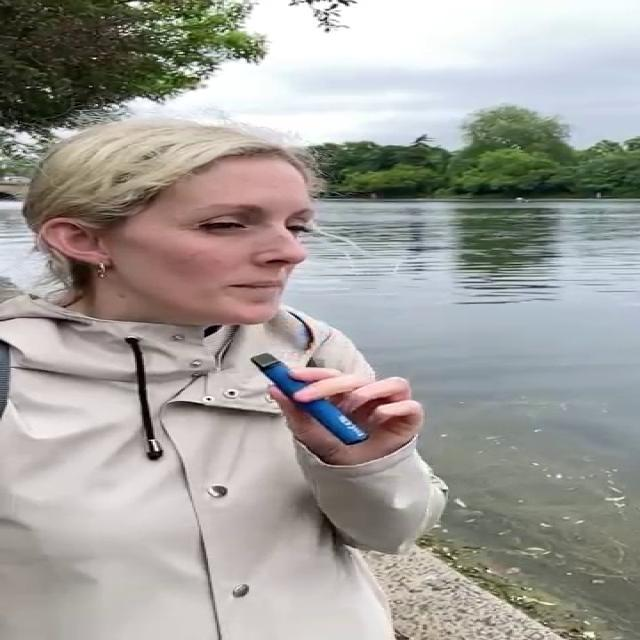Cigarette: (252, 353, 370, 446)
Hand: (264, 365, 426, 463)
Mouth: (222, 280, 285, 294)
